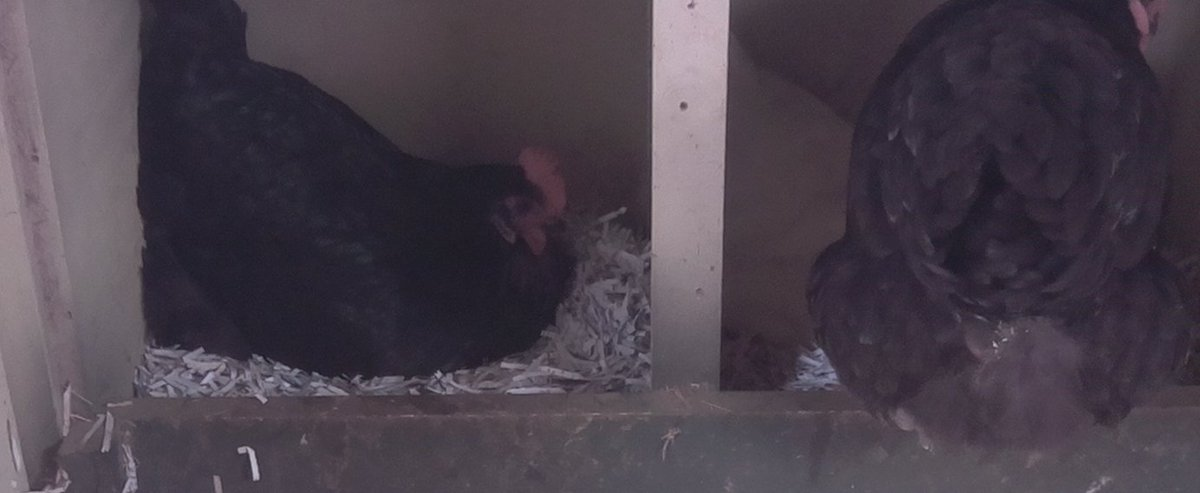hen: (794, 1, 1194, 449), (124, 1, 583, 377)
